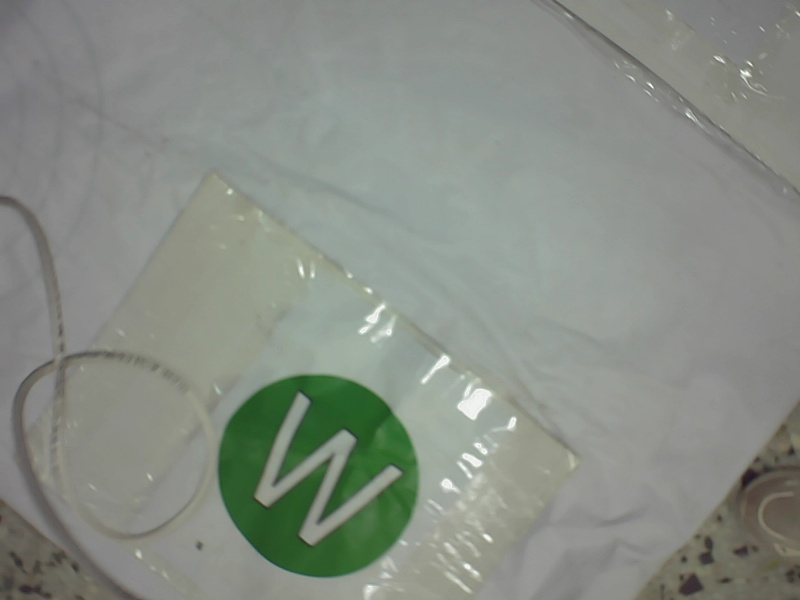areaB: (220, 372, 422, 582)
